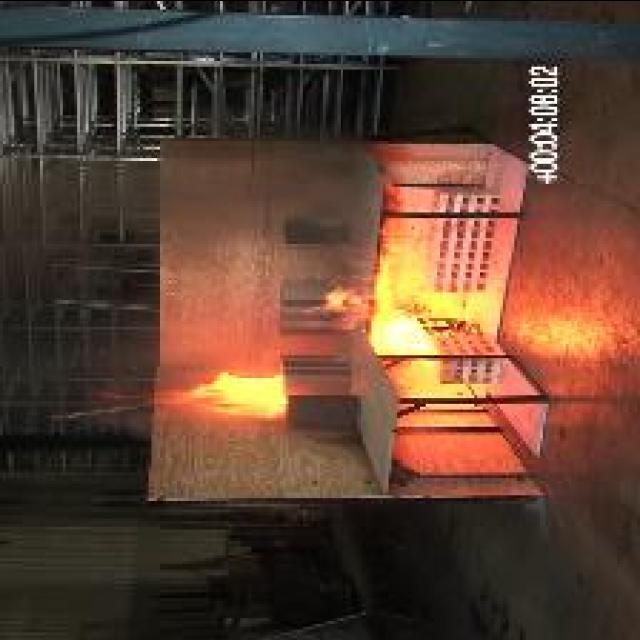Fire: (304, 236, 470, 356), (95, 372, 288, 418)
